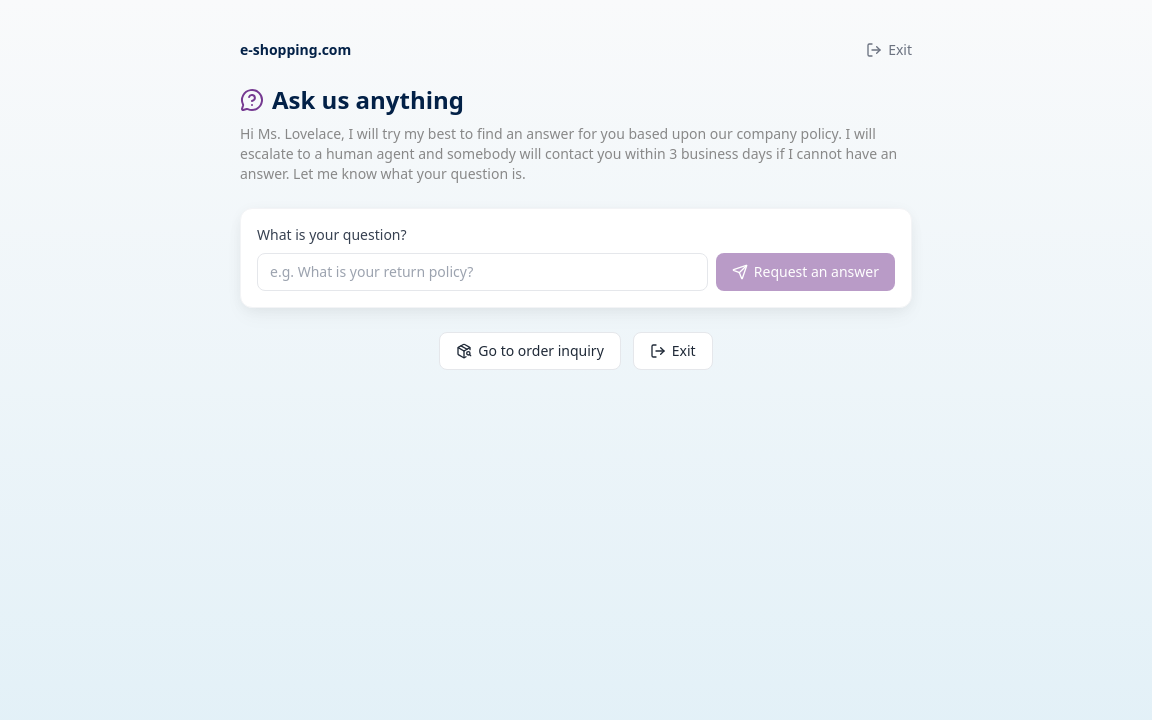
GeneralInquiryPage › asks a question, shows the answer, and reuses thread_id on a follow-up
Expected: the text "Hi Ms. Lovelace" is shown, [240,124,912,184]
Type "What is your return policy?" into the field with placeholder "e.g. What is your return policy?" at (482, 272), box [257,253,708,291]
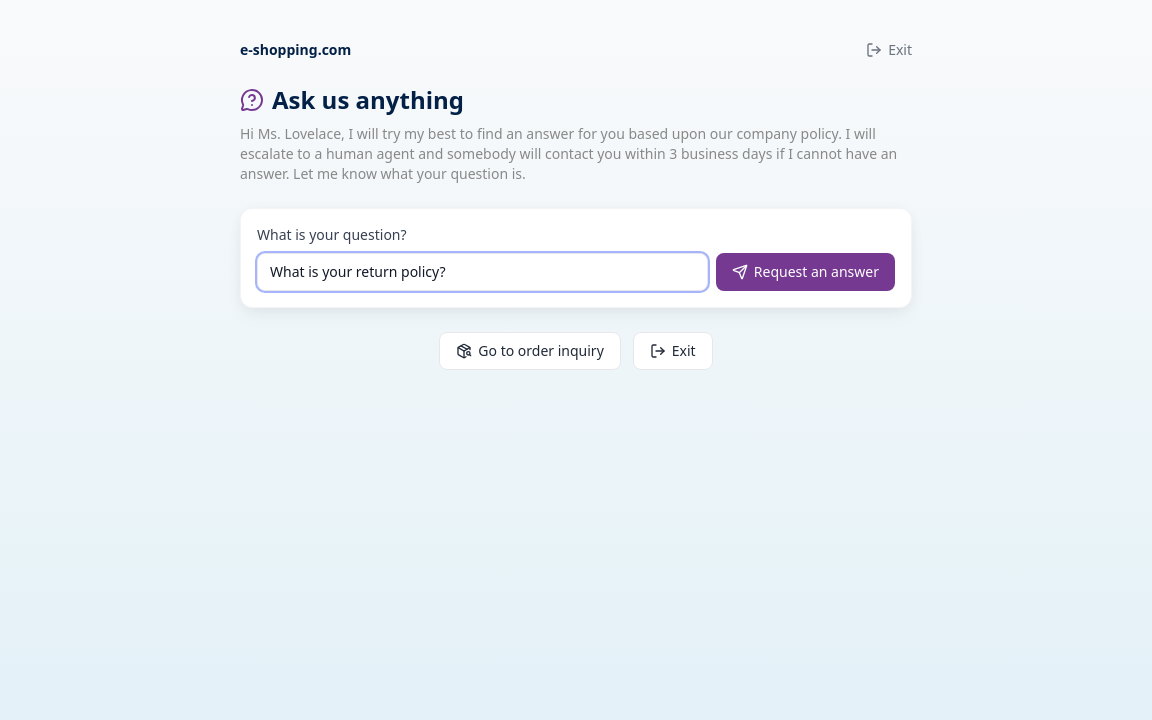
Click the button "Request an answer" at (805, 272), box [716,253,895,291]
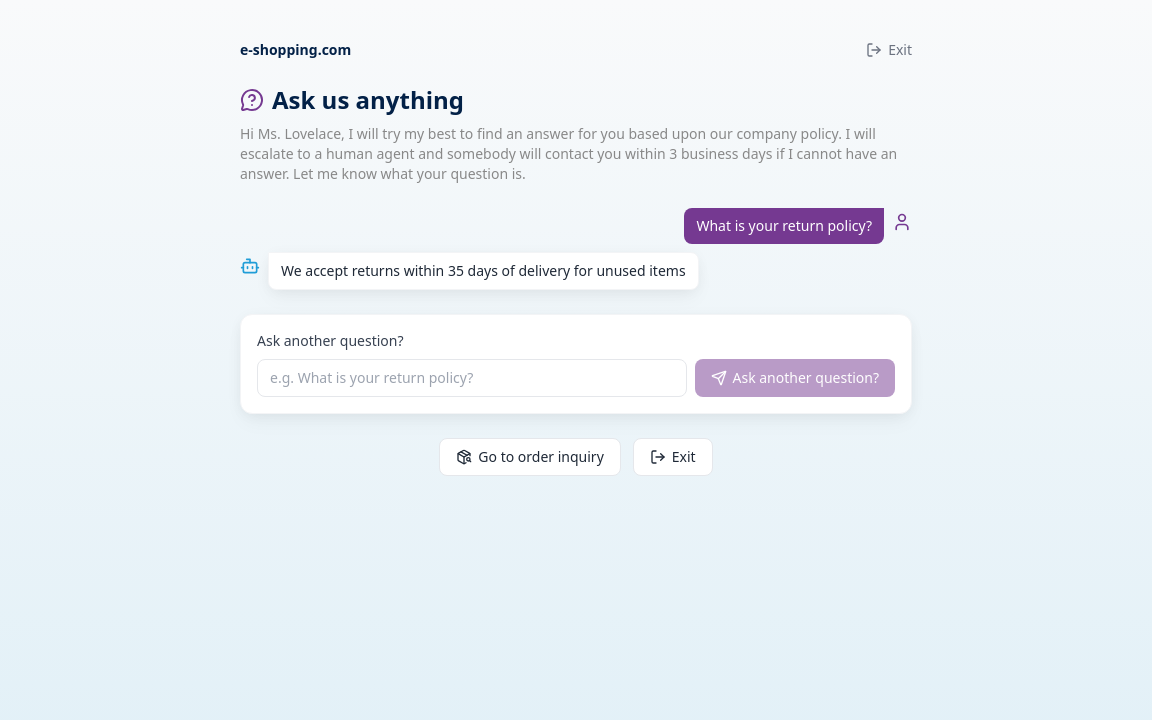
Result: the text "We accept returns within 35 days of delivery for unused items" is shown at [268,252,699,290]
Result: the text "What is your return policy?" is shown at [684,208,884,244]
Type "How long does delivery take?" into the field with placeholder "e.g. What is your return policy?" at (472, 378), box [257,359,686,397]
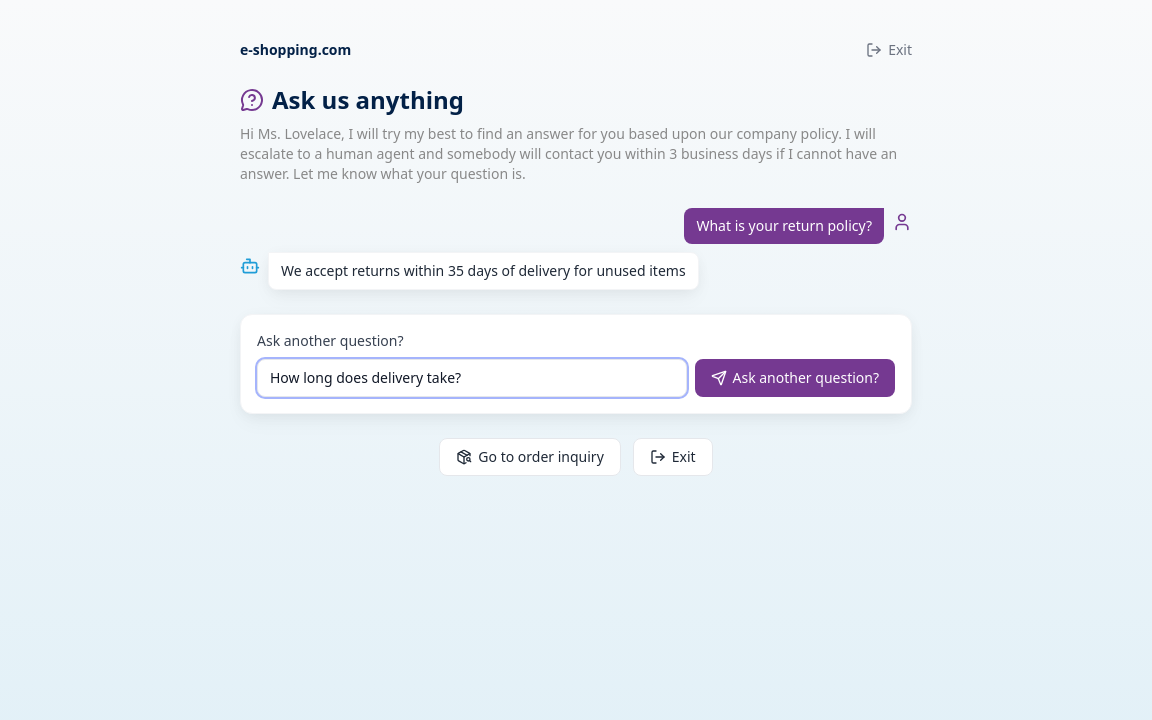
Click the button "Ask another question?" at (795, 378), box [694,359,895,397]
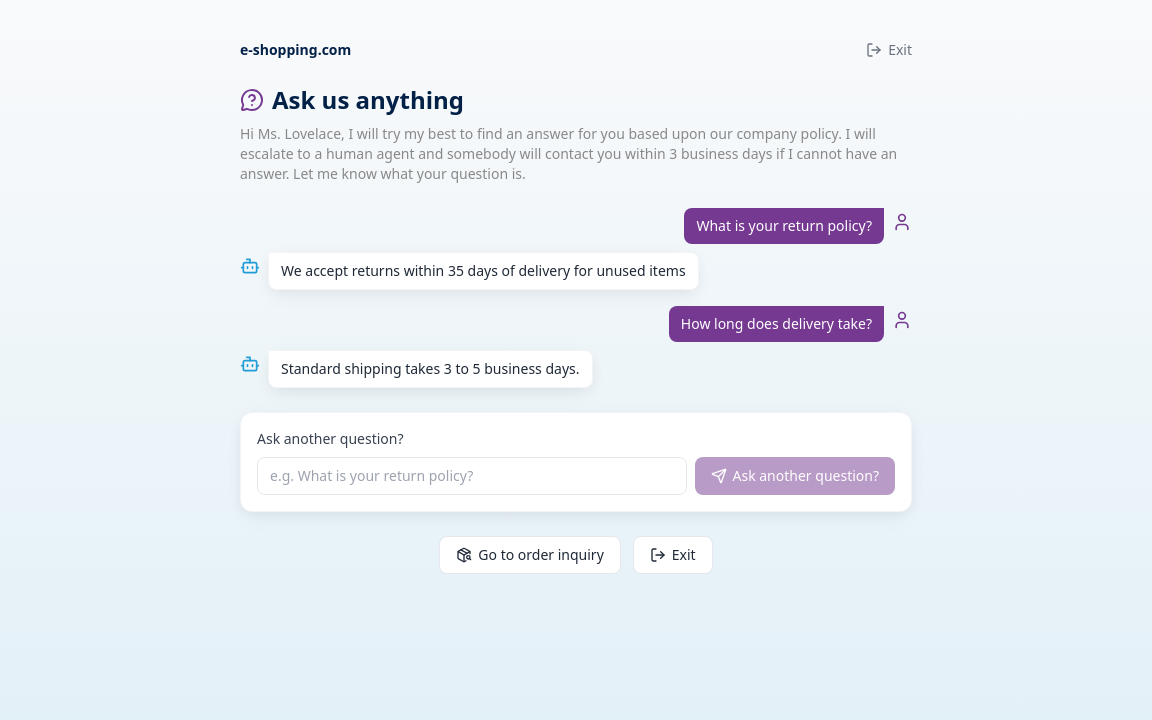
Result: the text "Standard shipping takes 3 to 5 business days." is shown at [268,350,592,388]
